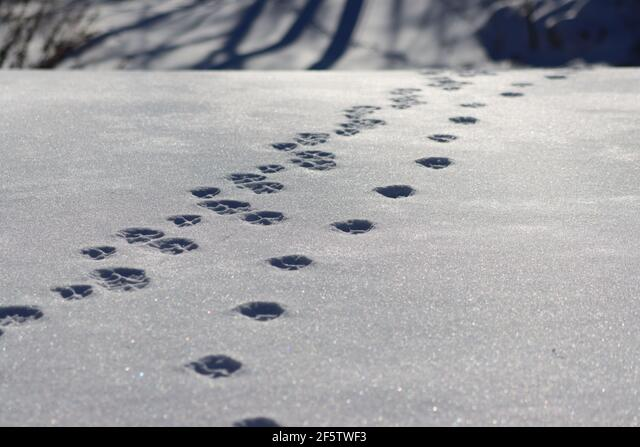fox: (185, 350, 252, 388), (237, 292, 283, 332), (328, 216, 381, 242), (266, 248, 315, 274)
